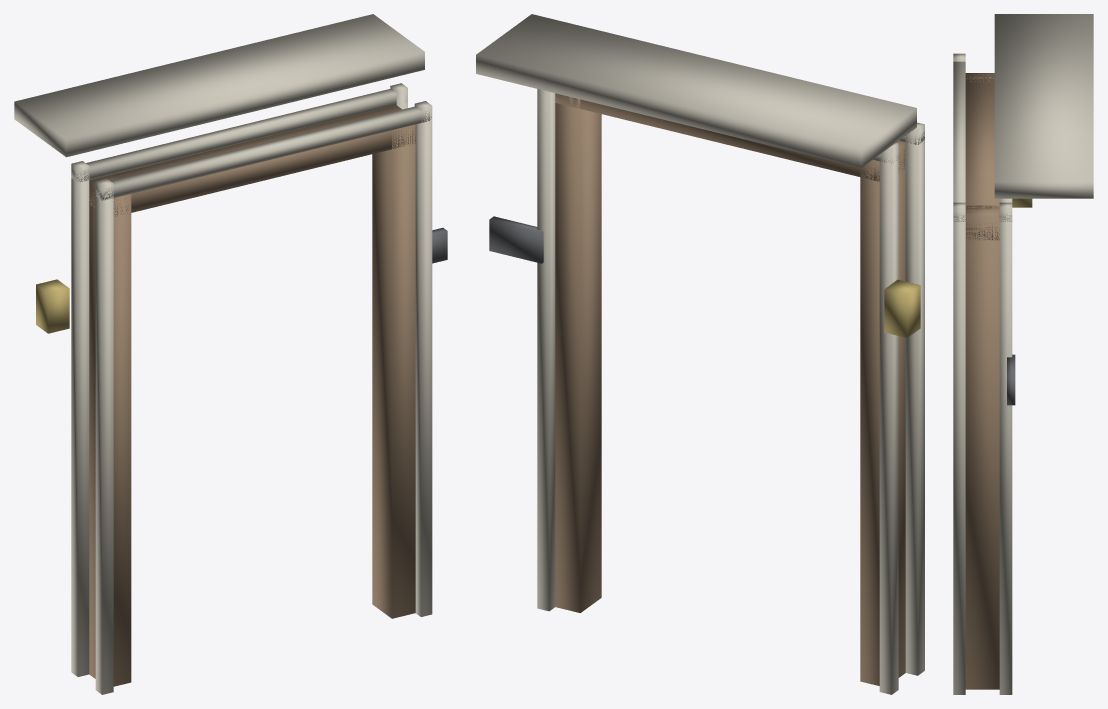
Rendered from doorway_motel_w122_h210_d16.glb.
The picture shows the model from 3 angles, left to right: view 1: azimuth 30°, elevation 25°; view 2: azimuth 150°, elevation 25°; view 3: azimuth 270°, elevation 25°; orthographic projection. The views are drawn at different scales.
Parts seen in each view (by area): view 1: world; view 2: world; view 3: world.
Boxes of the visible parts, left/top/right/bottom form: world: left=14, top=14, right=447, bottom=694; world: left=476, top=14, right=924, bottom=694; world: left=953, top=14, right=1093, bottom=694.
Bounding box in the file's own units: 1.86 × 2.43 × 0.5948.
